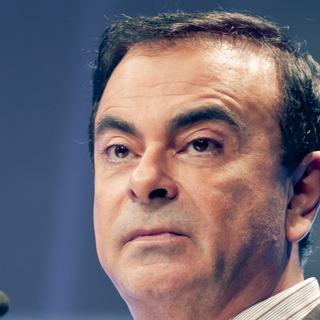eye: (173, 134, 225, 160), (100, 139, 143, 167)
